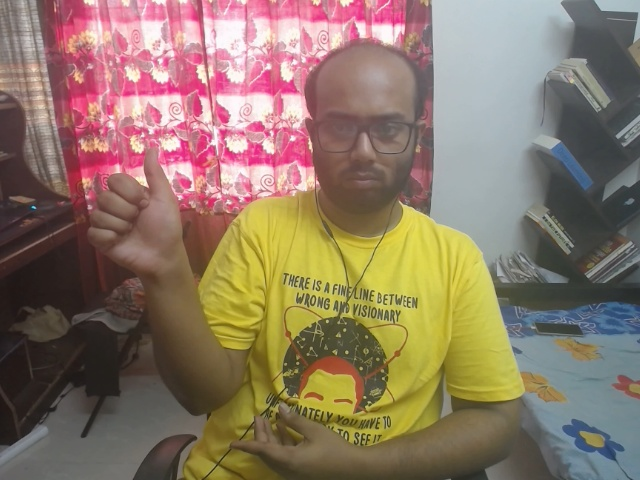six: (67, 129, 211, 298)
